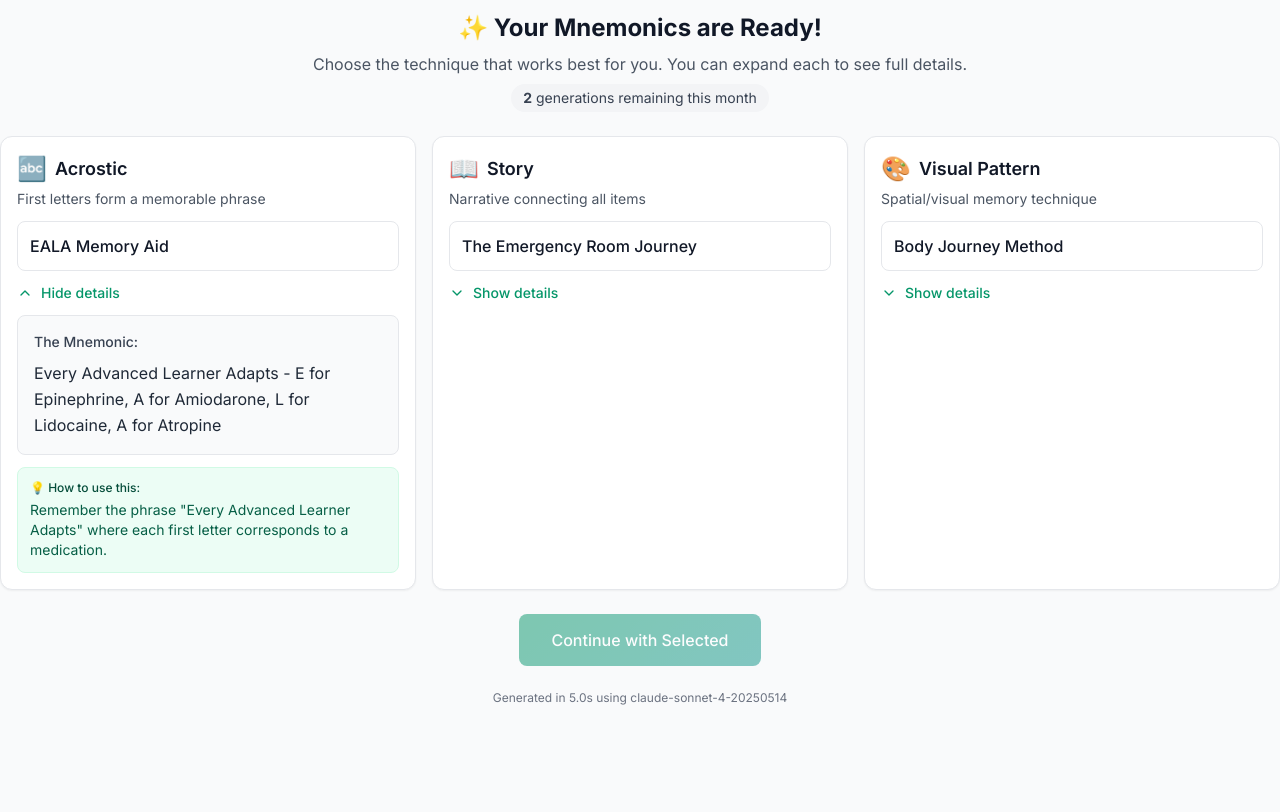
it: MnemonicSelectionView › Scenario 1: Select mnemonic (happy path) › should show selected type name in continue button
# Select visual card
What coordinates should you click on to do the following:
click the radio button labelled "Visual"
I would click on:
 (1072, 363)
Its box is [864,136,1279,590].
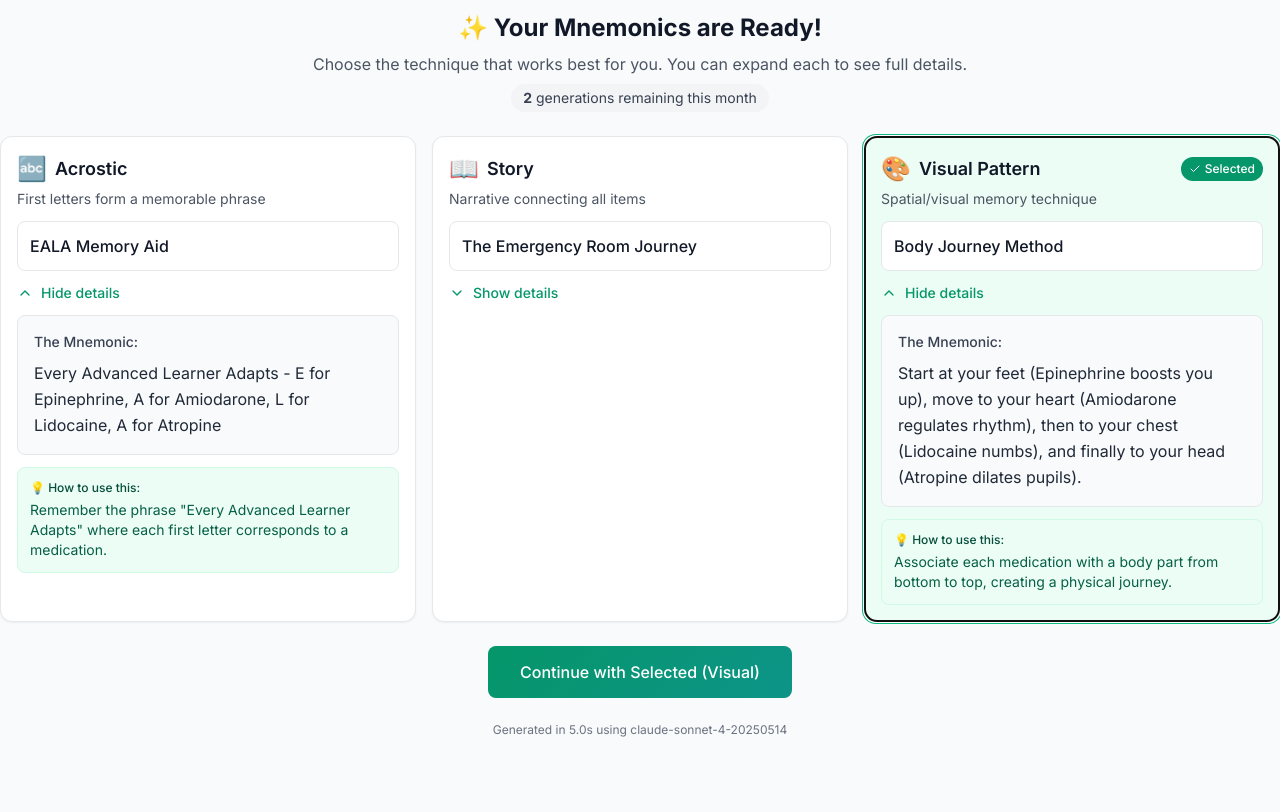
Check: the button "Continue with Selected (Visual)" is shown, box [488,646,792,698]
